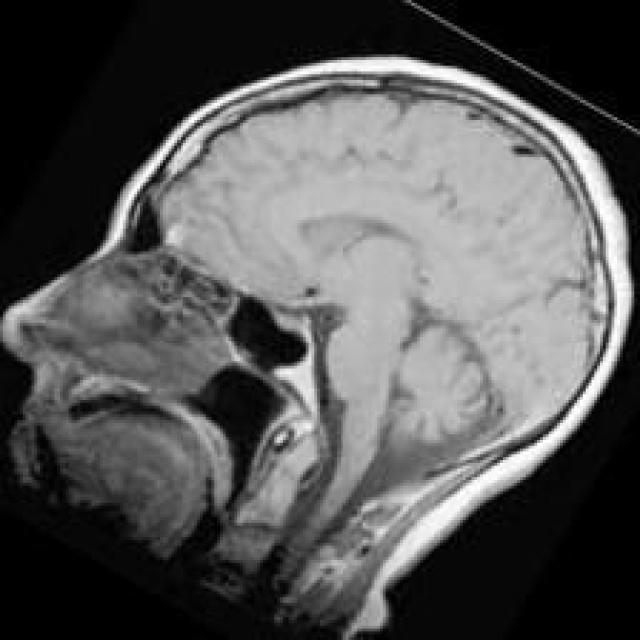no_tumor: (79, 43, 640, 519)
